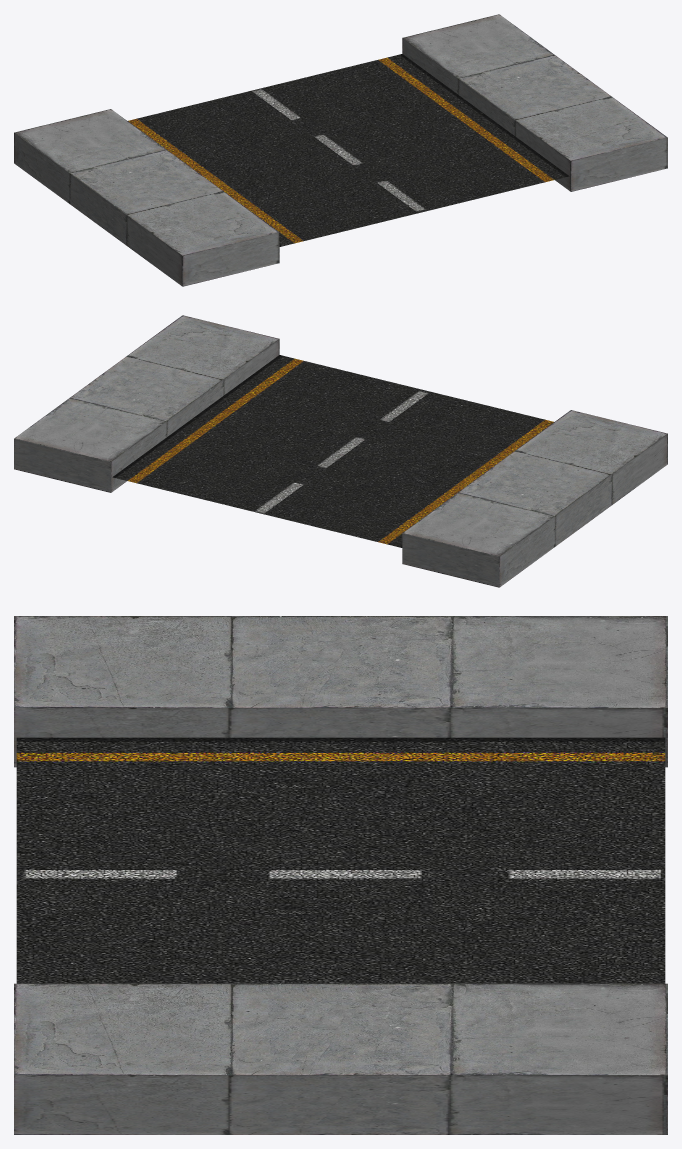
The model's file is Road.fbx.
3 views of the same model, one above another, from view 1: azimuth 30°, elevation 25°; view 2: azimuth 150°, elevation 25°; view 3: azimuth 270°, elevation 25° (orthographic). The views are drawn at different scales.
Parts seen in each view (by area): view 1: Plane, Cube.002, Cube.001; view 2: Plane, Cube.002, Cube.001; view 3: Plane, Cube.001, Cube.002.
Part boxes in pixels (<box>): Plane: <box>128,54,569,246</box>; Cube.002: <box>14,109,279,286</box>; Cube.001: <box>402,14,667,191</box>; Plane: <box>112,355,553,547</box>; Cube.002: <box>402,410,667,587</box>; Cube.001: <box>14,315,279,492</box>; Plane: <box>16,737,665,983</box>; Cube.001: <box>14,983,667,1134</box>; Cube.002: <box>14,616,667,767</box>.
Size of the model in its own units: 1001 by 60.53 by 602.
3 materials, 3 textured.
